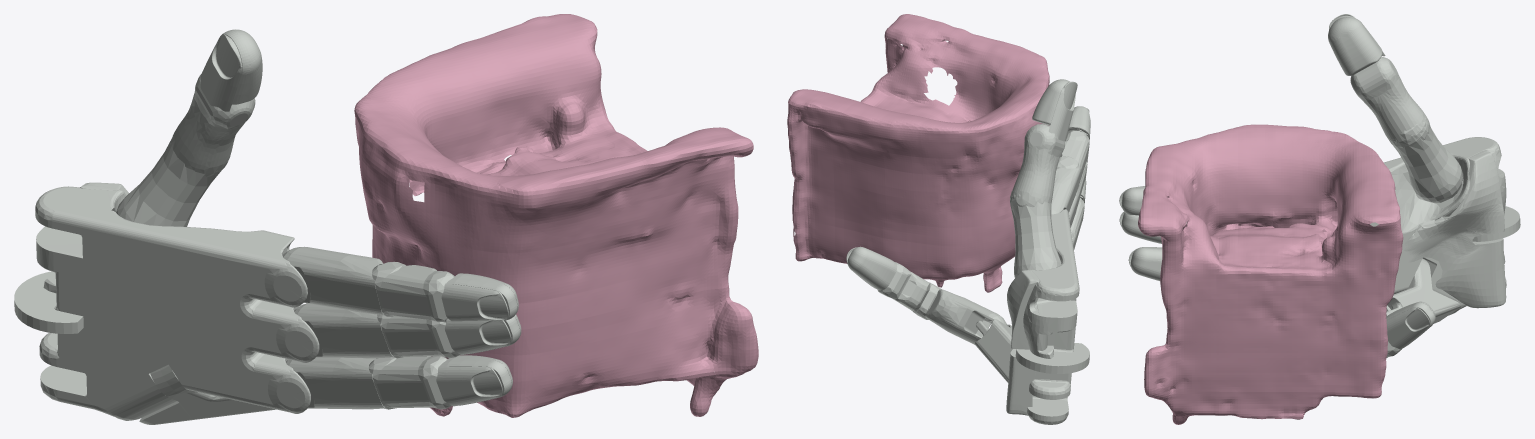
3 renders of one model, left to right at view 1: azimuth 30°, elevation 25°; view 2: azimuth 150°, elevation 25°; view 3: azimuth 270°, elevation 25°, orthographic. The views are drawn at different scales.
Visible parts, largest first — view 1: world, hand; view 2: world, hand; view 3: world, hand.
Boxes of the visible parts, x1,y1,x2,y2 form: world: (354, 14, 758, 417); hand: (14, 29, 521, 424); world: (787, 14, 1049, 292); hand: (846, 79, 1090, 424); world: (1138, 124, 1403, 424); hand: (1119, 14, 1520, 357).
Size of the model in its own units: 0.2119 by 0.1701 by 0.1968.
